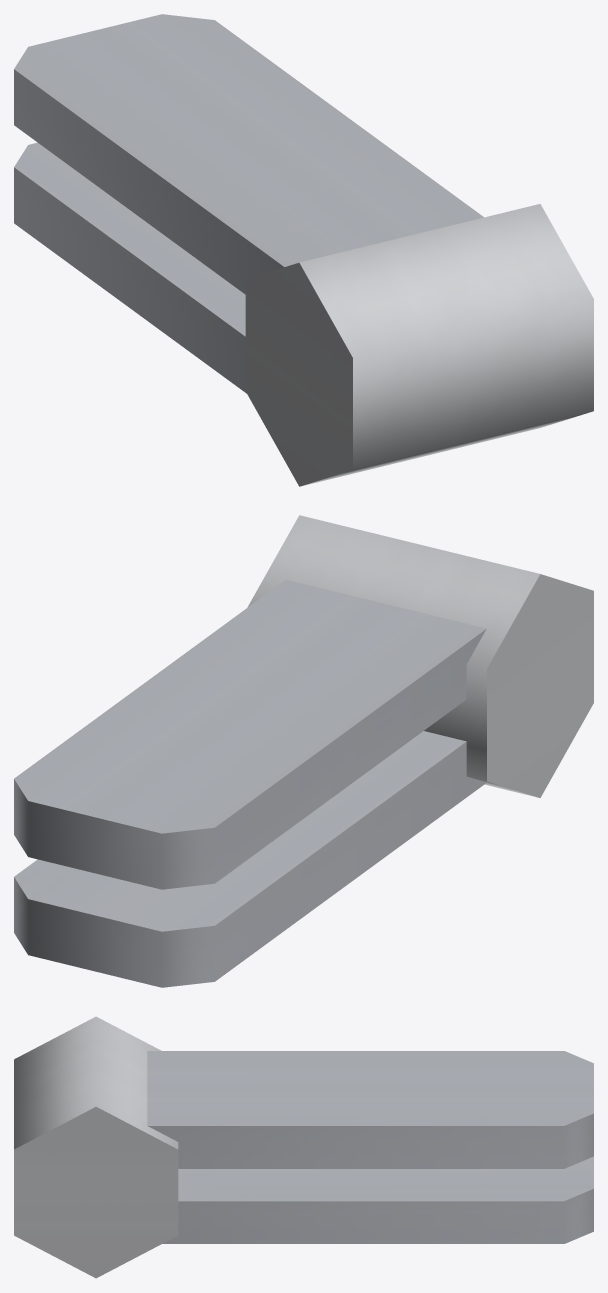
The model's file is acland_clamp.glb.
3 renders of one model, top to bottom at view 1: azimuth 30°, elevation 25°; view 2: azimuth 150°, elevation 25°; view 3: azimuth 270°, elevation 25°, orthographic. The views are drawn at different scales.
Parts seen in each view (by area): view 1: m4_acland_clamp; view 2: m4_acland_clamp; view 3: m4_acland_clamp.
Part boxes in pixels (bbox=[...]): m4_acland_clamp: bbox=[14, 14, 593, 486]; m4_acland_clamp: bbox=[14, 515, 593, 987]; m4_acland_clamp: bbox=[14, 1016, 593, 1278].
Size of the model in its own units: 0.0036 by 0.0032 by 0.00979.
1 material, 1 textured.
